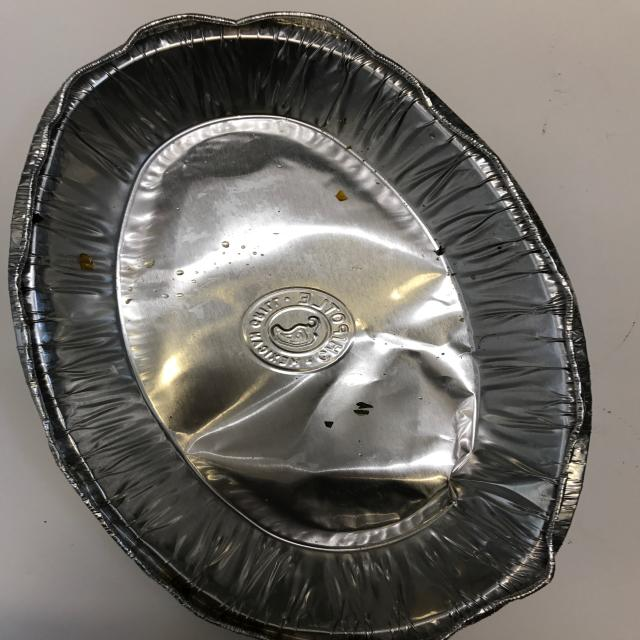metal: (7, 10, 593, 639)
